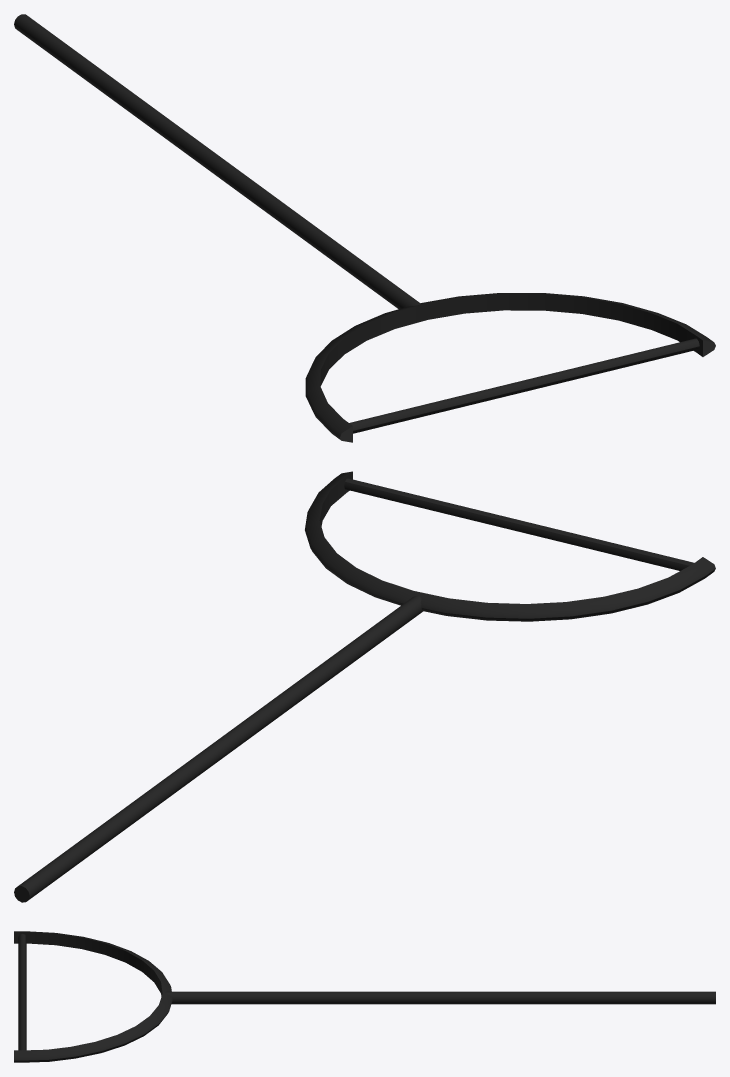
The model's file is lollipop.glb.
3 views of the same model, one above another, from view 1: azimuth 30°, elevation 25°; view 2: azimuth 150°, elevation 25°; view 3: azimuth 270°, elevation 25° (orthographic). The views are drawn at different scales.
Parts seen in each view (by area): view 1: lollipop_base; view 2: lollipop_base; view 3: lollipop_base.
Boxes of the visible parts, x1,y1,x2,y2 form: lollipop_base: (14,14,715,442); lollipop_base: (14,471,715,902); lollipop_base: (14,931,715,1062).
Size of what is drawn, in the model's own units: 5.65 by 0.2575 by 13.16.
Materials: 1 (1 with a texture image).
